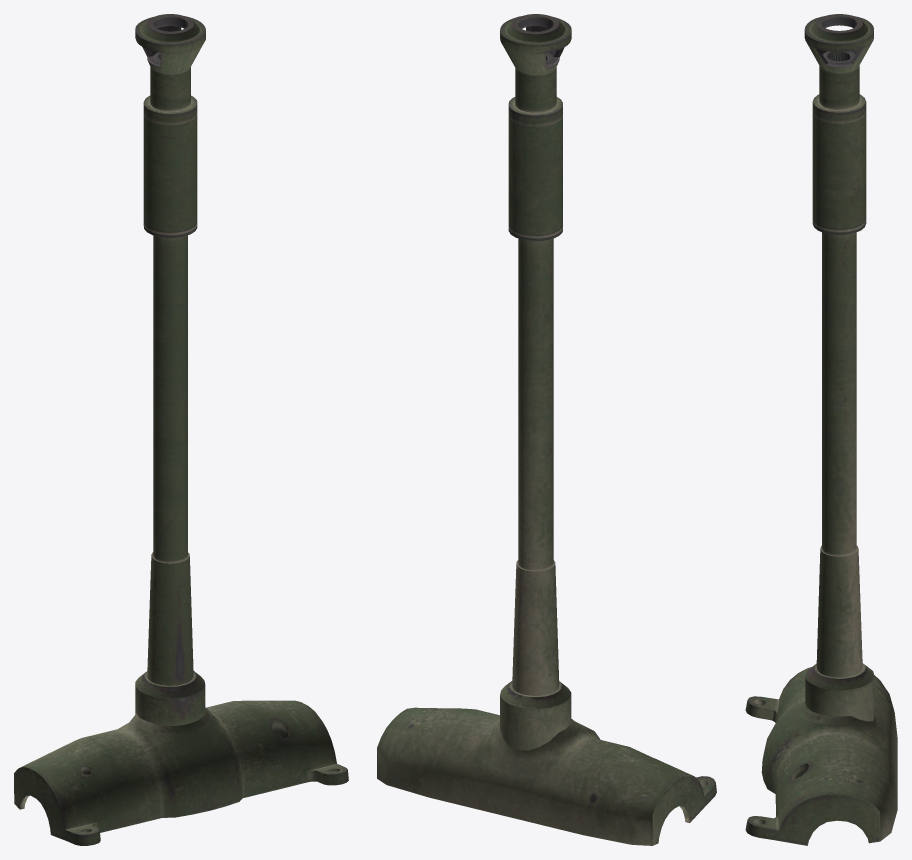
Rendered from Gun_01.glb.
3 renders of one model, left to right at view 1: azimuth 30°, elevation 25°; view 2: azimuth 150°, elevation 25°; view 3: azimuth 270°, elevation 25°, orthographic. The views are drawn at different scales.
Visible parts, largest first — view 1: set_0_group_0; view 2: set_0_group_0; view 3: set_0_group_0.
Part boxes in pixels (x1,y1,x2,y2): set_0_group_0: (14, 14, 348, 845); set_0_group_0: (377, 14, 716, 845); set_0_group_0: (745, 14, 897, 845).
Size of the model in its own units: 1.36 by 3.67 by 0.6678.
1 material, 1 textured.
